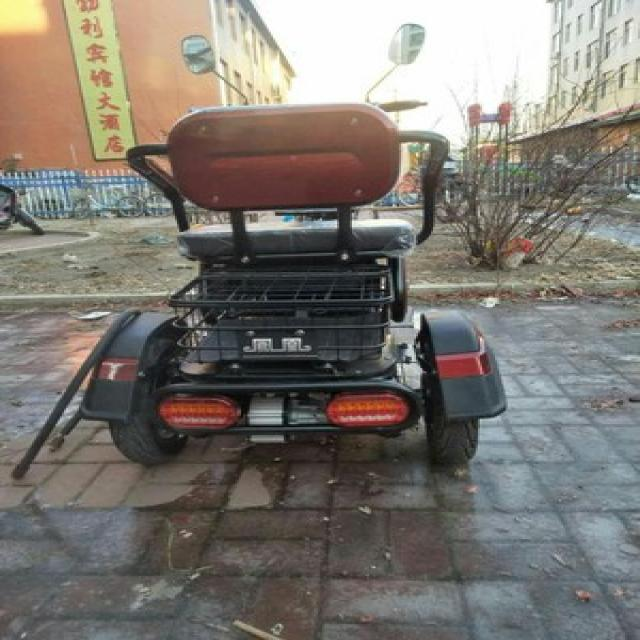bicycle: (68, 180, 141, 218)
tricycle: (77, 22, 510, 469)
